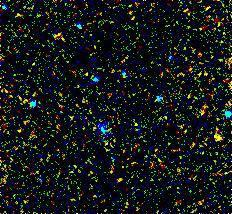star: (203, 123, 232, 153)
